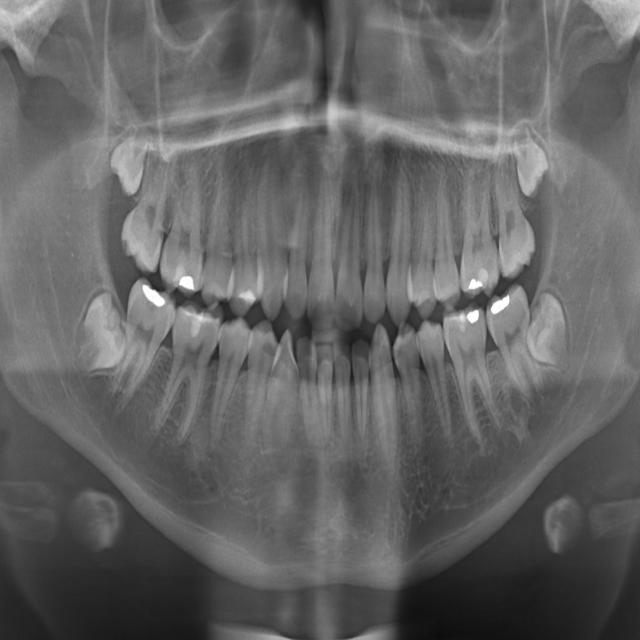CompositeResinRestoration: (182, 304, 207, 344), (452, 310, 468, 340), (478, 262, 490, 290)
